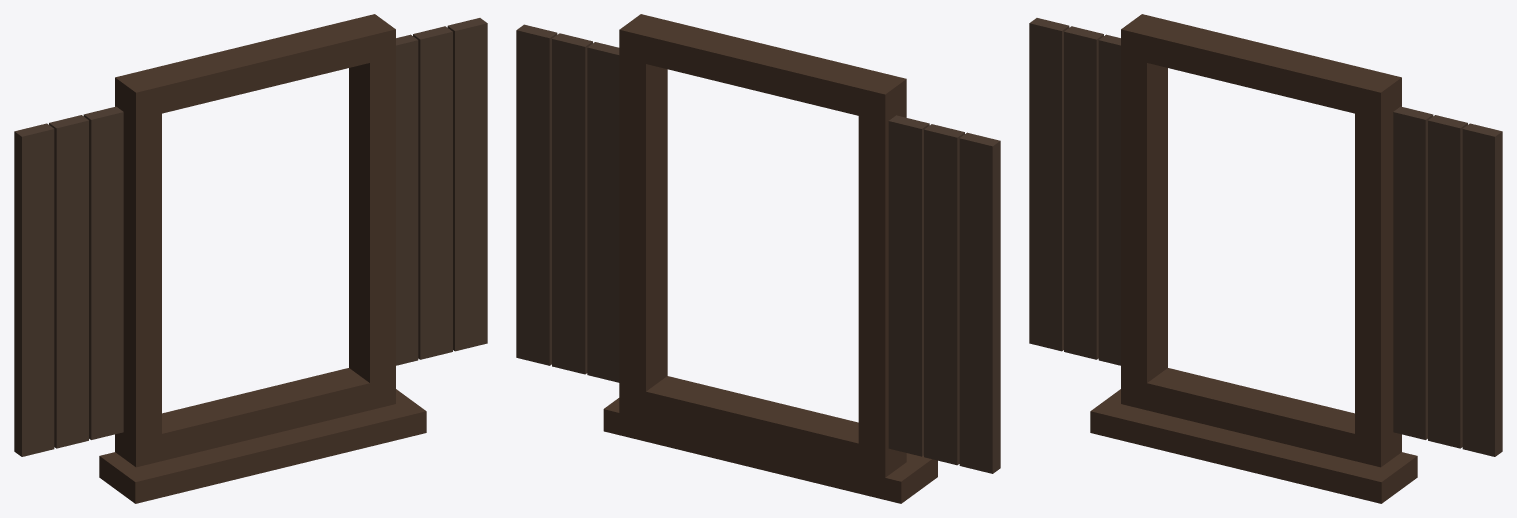
Rendered from window_lit.glb.
3 renders of one model, left to right at view 1: azimuth 30°, elevation 25°; view 2: azimuth 150°, elevation 25°; view 3: azimuth 330°, elevation 25°, orthographic. The views are drawn at different scales.
Parts seen in each view (by area): view 1: window_lit; view 2: window_lit; view 3: window_lit.
Part boxes in pixels (x1=…): window_lit: x1=14, y1=14, x2=487, y2=503; window_lit: x1=516, y1=14, x2=1000, y2=503; window_lit: x1=1029, y1=14, x2=1502, y2=503.
Bounding box in the file's own units: 0.896 × 0.7289 × 0.12.
